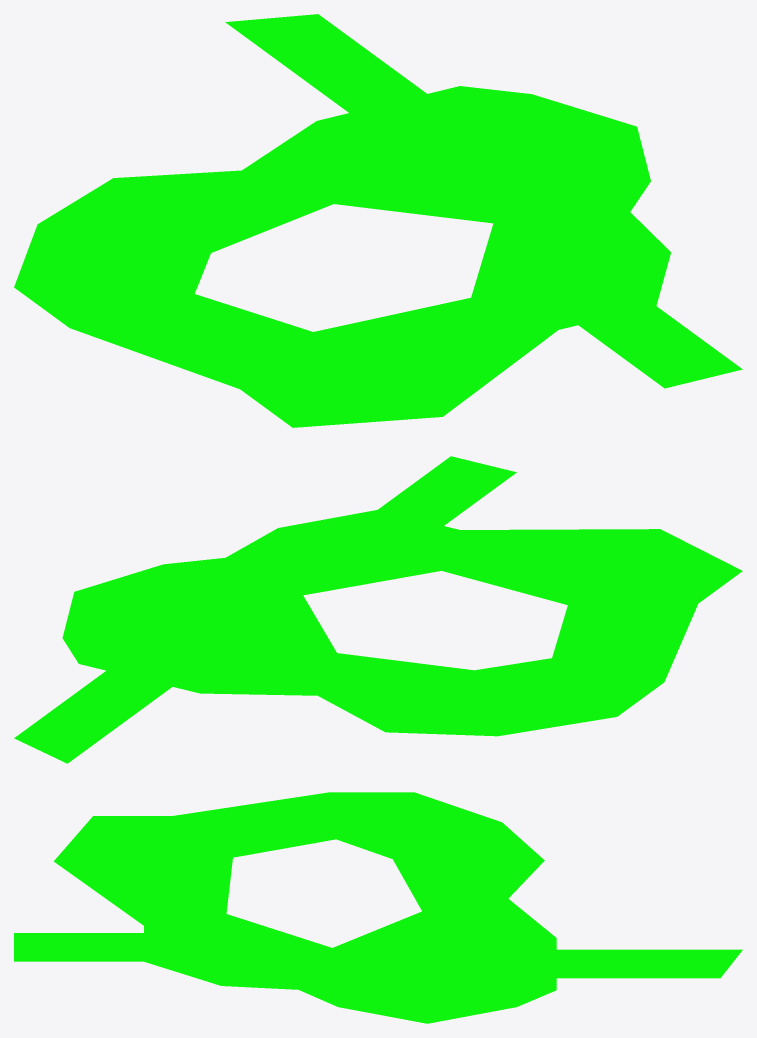
File: s01b_ib2-floor.glb
3 renders of one model, top to bottom at view 1: azimuth 30°, elevation 25°; view 2: azimuth 150°, elevation 25°; view 3: azimuth 270°, elevation 25°, orthographic. The views are drawn at different scales.
Parts seen in each view (by area): view 1: collision_floor-colonly; view 2: collision_floor-colonly; view 3: collision_floor-colonly.
Boxes of the visible parts, x1,y1,x2,y2 form: collision_floor-colonly: [14, 14, 742, 427]; collision_floor-colonly: [14, 456, 742, 763]; collision_floor-colonly: [14, 792, 742, 1023].
Size of the model in its own units: 48.5 by 0 by 64.5.
